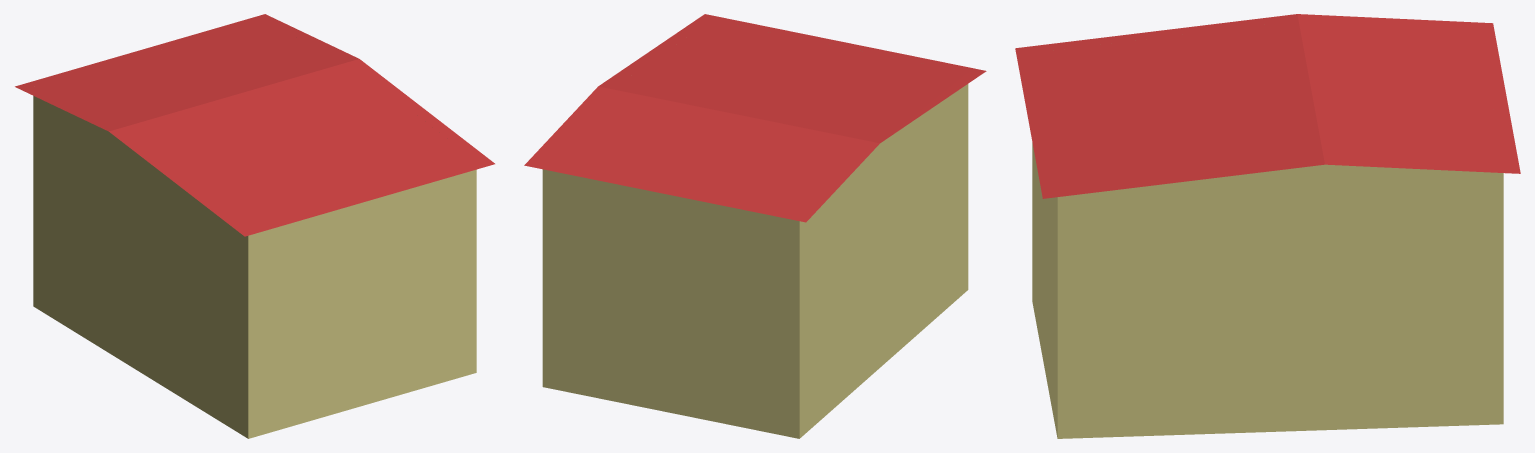
3 views of the same model, side by side, from view 1: azimuth 30°, elevation 25°; view 2: azimuth 150°, elevation 25°; view 3: azimuth 270°, elevation 25° (orthographic). The views are drawn at different scales.
Bounding box in the file's own units: 12.29 × 15.79 × 9.38.
